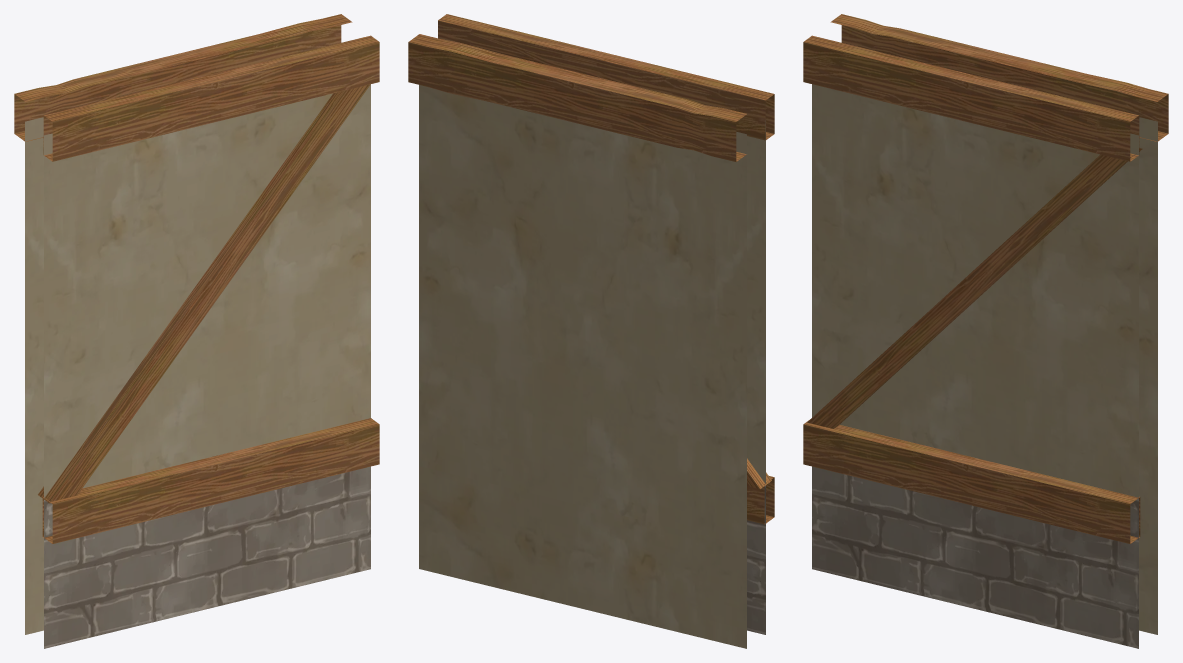
Rendered from wall_plaster_straight_r.glb.
The picture shows the model from 3 angles, left to right: view 1: azimuth 30°, elevation 25°; view 2: azimuth 150°, elevation 25°; view 3: azimuth 330°, elevation 25°; orthographic projection.
Bounding box in the file's own units: 2 × 3.12 × 0.4066.
3 materials, 3 textured.
